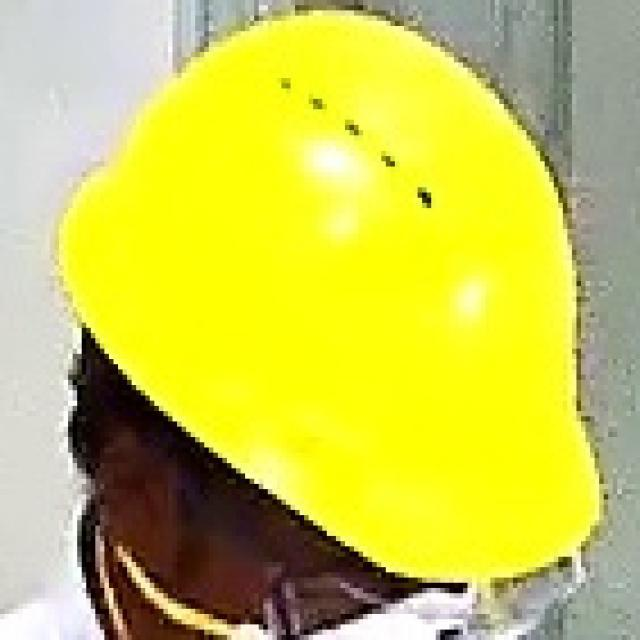yellow helmet: (53, 0, 613, 585)
